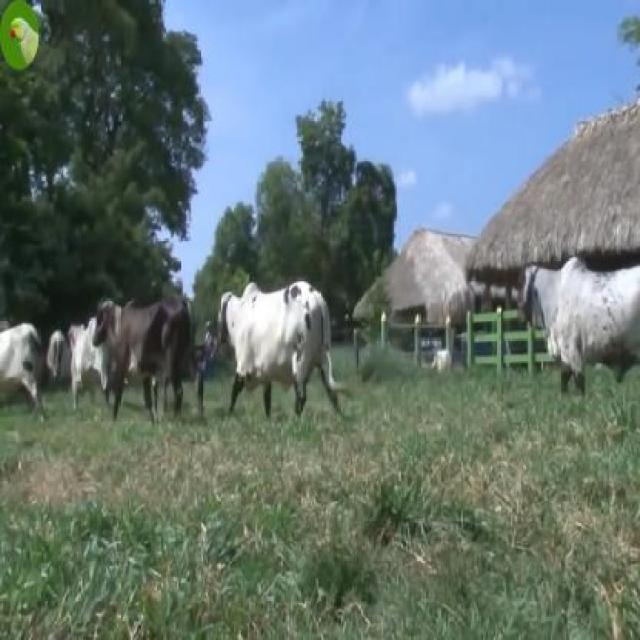Cow: (518, 258, 638, 400), (218, 285, 336, 423), (94, 294, 198, 411)
